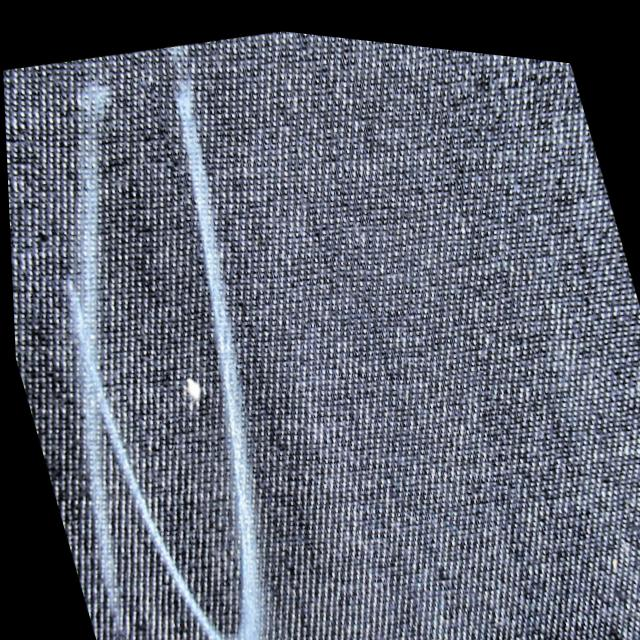Hole: (166, 352, 217, 423)
